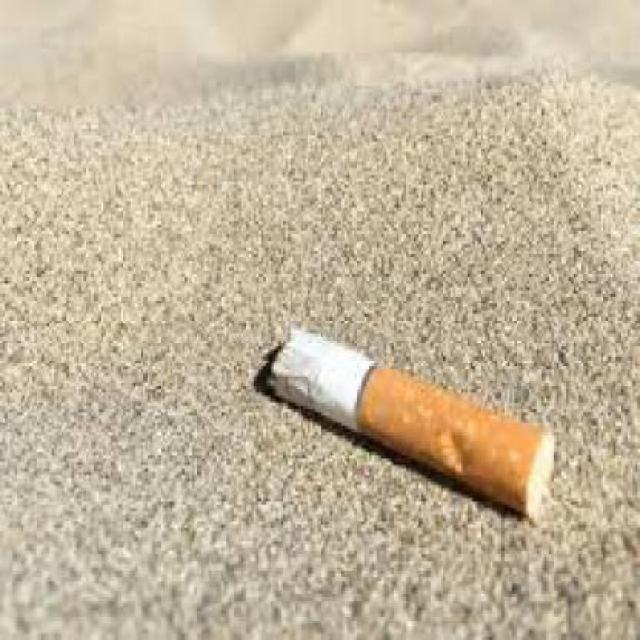cigarette: (248, 316, 568, 561)
